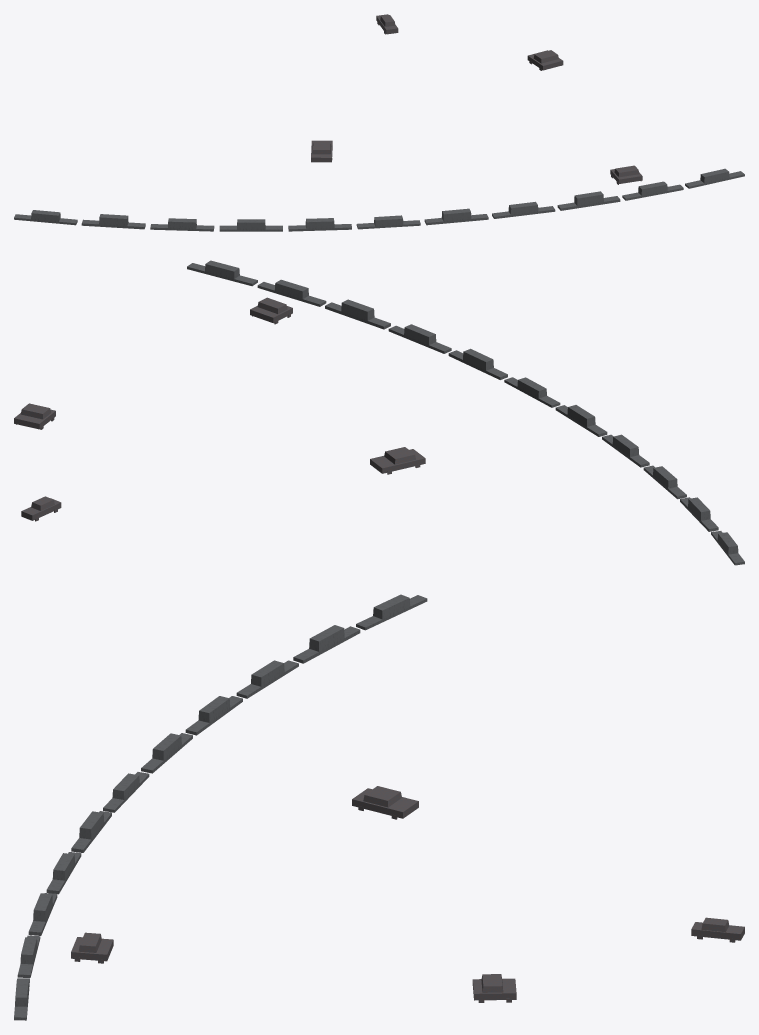
File: SM_City_AlTariqAlMasdud_5.fbx
3 views of the same model, one above another, from view 1: azimuth 30°, elevation 25°; view 2: azimuth 150°, elevation 25°; view 3: azimuth 270°, elevation 25° (orthographic). The views are drawn at different scales.
Parts seen in each view (by area): view 1: SM_City_AlTariqAlMasdud_5; view 2: SM_City_AlTariqAlMasdud_5; view 3: SM_City_AlTariqAlMasdud_5.
Boxes of the visible parts, bbox=[...] form: SM_City_AlTariqAlMasdud_5: bbox=[14, 14, 744, 231]; SM_City_AlTariqAlMasdud_5: bbox=[14, 260, 744, 565]; SM_City_AlTariqAlMasdud_5: bbox=[14, 594, 744, 1020].
Bounding box in the file's own units: 8943 × 150 × 6536.
2 materials, 2 textured.
